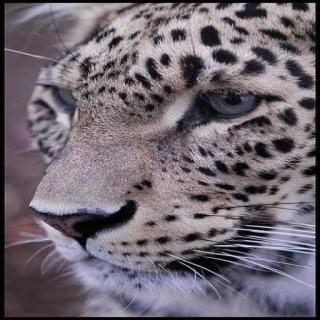Leopard: (37, 3, 320, 304)
